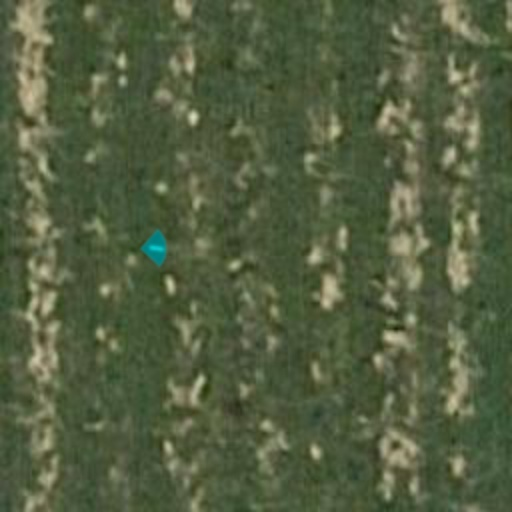quarter_circle: (136, 228, 176, 268)
